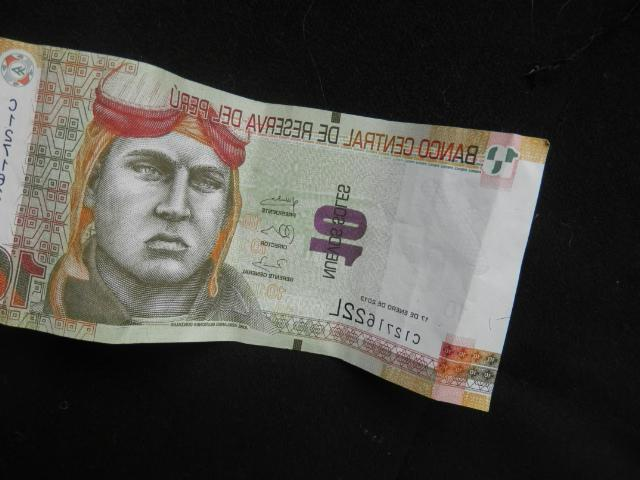B10: (1, 38, 549, 412)
